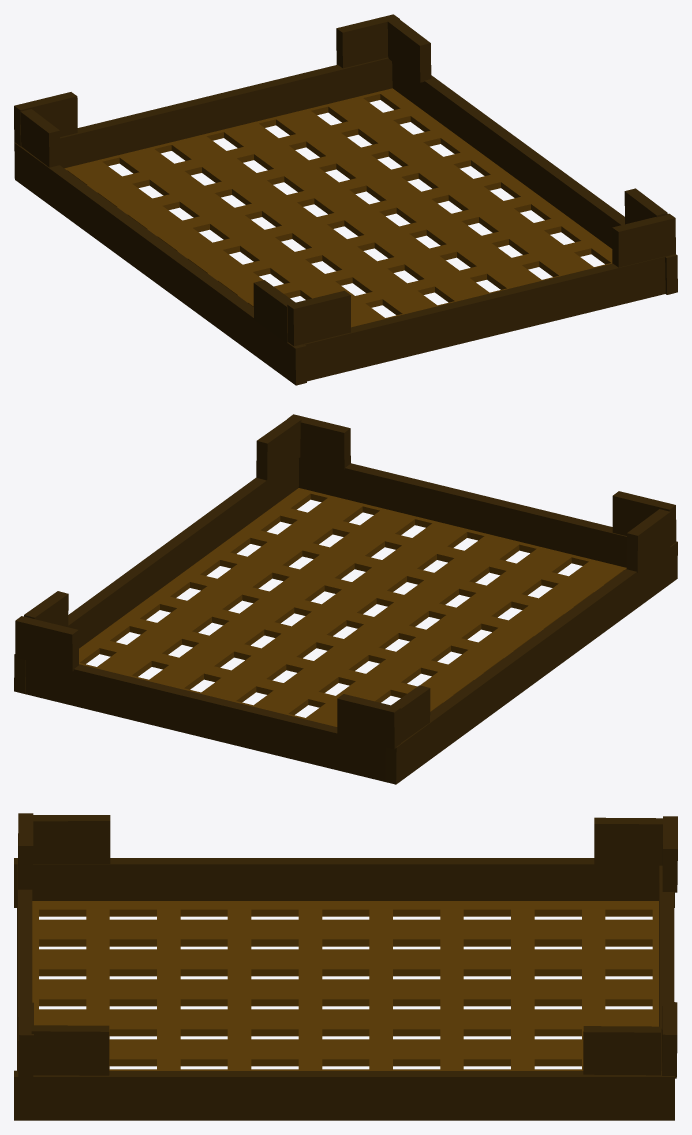
The model's file is Bonito Factory rack.fbx.
The picture shows the model from 3 angles, top to bottom: view 1: azimuth 30°, elevation 25°; view 2: azimuth 150°, elevation 25°; view 3: azimuth 270°, elevation 25°; orthographic projection. The views are drawn at different scales.
Parts seen in each view (by area): view 1: Plane, Plane.002, Plane.003, Plane.001, Plane.004, Plane.007, Plane.008, Plane.005, Plane.010, Plane.006, Plane.011, Plane.012 (+1 smaller); view 2: Plane, Plane.001, Plane.003, Plane.002, Plane.004, Plane.006, Plane.005, Plane.008, Plane.009, Plane.012, Plane.007, Plane.011 (+1 smaller); view 3: Plane, Plane.004, Plane.003, Plane.009, Plane.010, Plane.012, Plane.011, Plane.001, Plane.002, Plane.008, Plane.007, Plane.006 (+1 smaller).
Boxes of the visible parts, x1,y1,x2,y2 form: Plane: (64, 88, 612, 327); Plane.002: (303, 256, 666, 381); Plane.003: (14, 142, 306, 385); Plane.001: (60, 57, 392, 168); Plane.004: (392, 61, 677, 294); Plane.007: (287, 290, 350, 346); Plane.008: (612, 213, 675, 267); Plane.005: (336, 14, 399, 68); Plane.010: (387, 18, 431, 82); Plane.006: (14, 92, 77, 146); Plane.011: (20, 109, 60, 167); Plane.012: (253, 280, 295, 343); Plane: (79, 488, 626, 726); Plane.001: (25, 660, 385, 781); Plane.003: (385, 541, 677, 784); Plane.002: (298, 459, 626, 567); Plane.004: (14, 458, 298, 693); Plane.006: (337, 694, 400, 749); Plane.005: (15, 616, 78, 671); Plane.008: (288, 414, 350, 469); Plane.009: (256, 417, 301, 480); Plane.012: (626, 509, 670, 572); Plane.007: (612, 491, 676, 545); Plane.011: (391, 685, 430, 742); Plane: (32, 901, 658, 1070); Plane.004: (14, 1070, 674, 1120); Plane.003: (14, 858, 674, 907); Plane.009: (31, 1025, 109, 1075); Plane.010: (583, 1026, 661, 1075); Plane.012: (33, 815, 110, 863); Plane.011: (594, 817, 662, 867); Plane.001: (659, 865, 674, 1070); Plane.002: (17, 863, 32, 1071); Plane.008: (18, 1002, 33, 1078); Plane.007: (18, 813, 33, 889); Plane.006: (662, 816, 677, 892).
Size of the model in its own units: 420 by 79.27 by 536.
